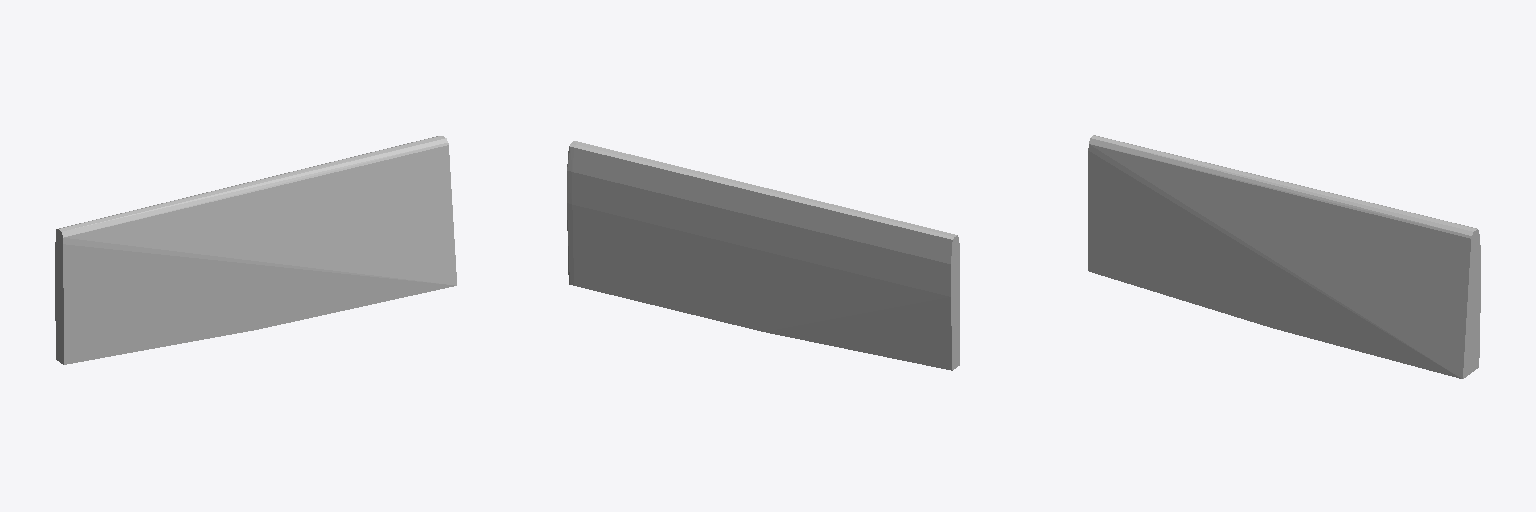
Rendered from plastic_box_collision_5.obj.
The picture shows the model from 3 angles: view 1: azimuth 30°, elevation 25°; view 2: azimuth 150°, elevation 25°; view 3: azimuth 330°, elevation 25°; orthographic projection.
Size of the model in its own units: 0.5381 by 0.1869 by 0.0449.